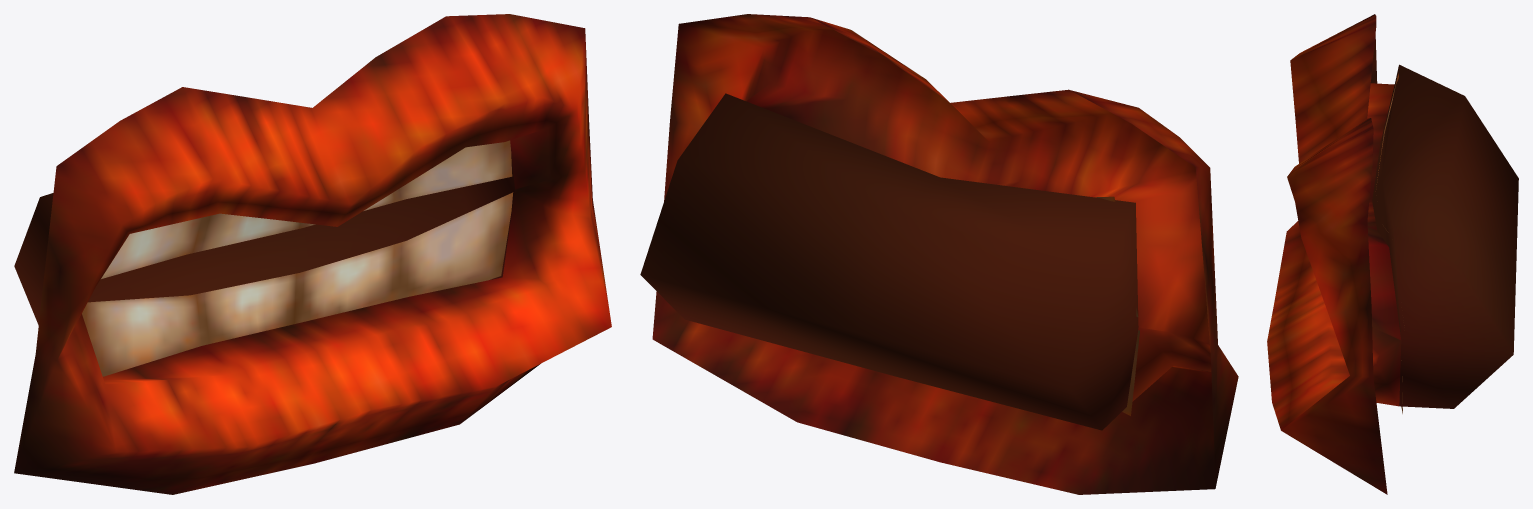
Rendered from Aku_boca.obj.
3 views of the same model, side by side, from view 1: azimuth 30°, elevation 25°; view 2: azimuth 150°, elevation 25°; view 3: azimuth 270°, elevation 25° (orthographic). The views are drawn at different scales.
Parts seen in each view (by area): view 1: AkuAku.003; view 2: AkuAku.003; view 3: AkuAku.003.
Boxes of the visible parts, x1,y1,x2,y2 form: AkuAku.003: (14,14,611,494); AkuAku.003: (640,14,1238,494); AkuAku.003: (1267,14,1518,494).
Bounding box in the file's own units: 10.07 × 7.01 × 4.5.
